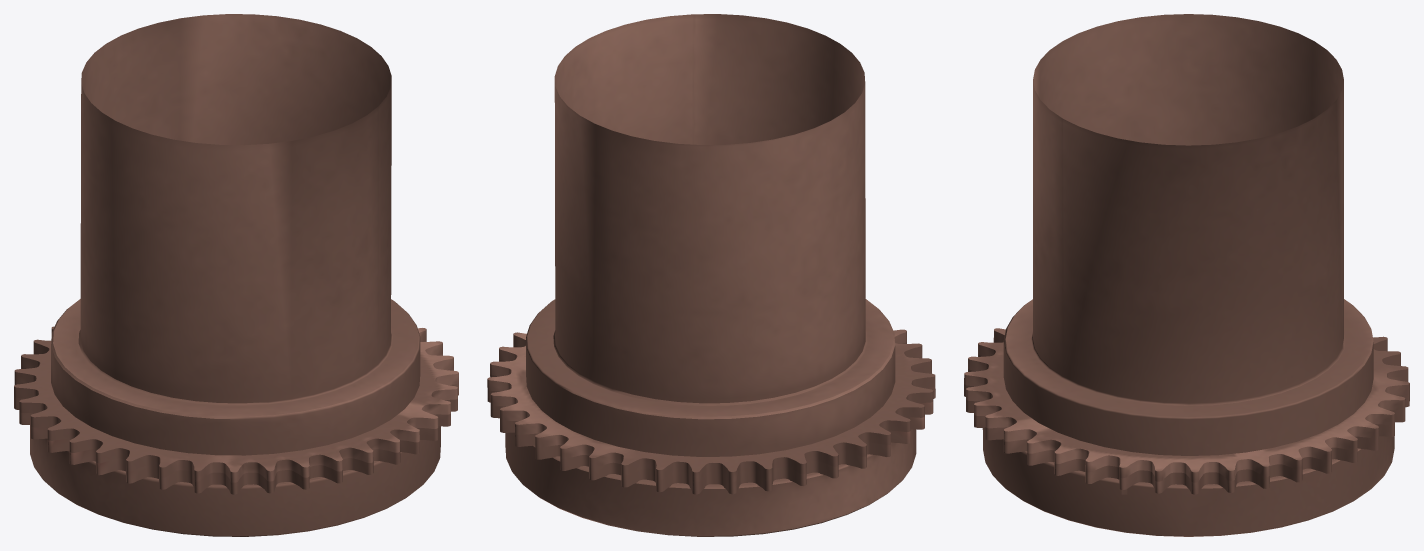
The model's file is Baseplanetas.obj.
The picture shows the model from 3 angles, left to right: view 1: azimuth 30°, elevation 25°; view 2: azimuth 150°, elevation 25°; view 3: azimuth 270°, elevation 25°; orthographic projection.
Visible parts, largest first — view 1: Part_003_part_03_0.001; view 2: Part_003_part_03_0.001; view 3: Part_003_part_03_0.001.
Part boxes in pixels (x1,y1,x2,y2): Part_003_part_03_0.001: (14,14,458,536); Part_003_part_03_0.001: (487,14,935,536); Part_003_part_03_0.001: (964,14,1409,536).
Size of the model in its own units: 1.17 by 1.08 by 1.17.
